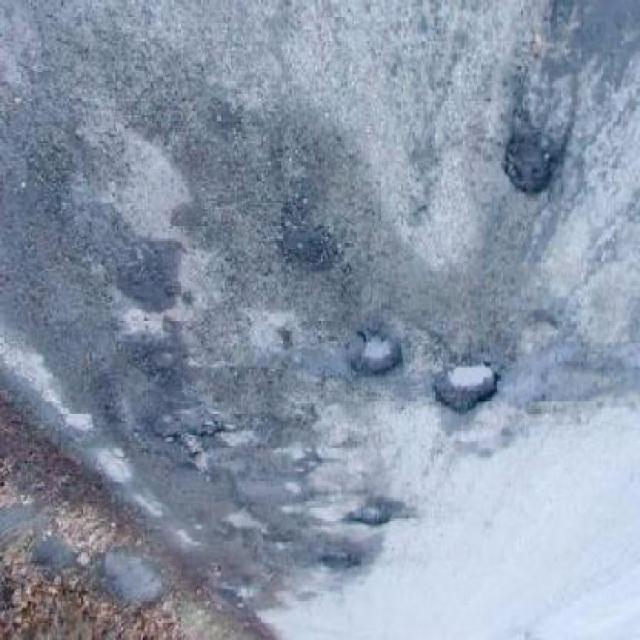pothole1: (118, 241, 180, 314), (431, 362, 502, 421), (273, 222, 338, 275), (500, 137, 555, 198), (349, 328, 405, 387), (128, 344, 182, 390), (341, 506, 390, 531), (317, 549, 360, 573), (196, 415, 222, 440), (177, 435, 201, 460)
